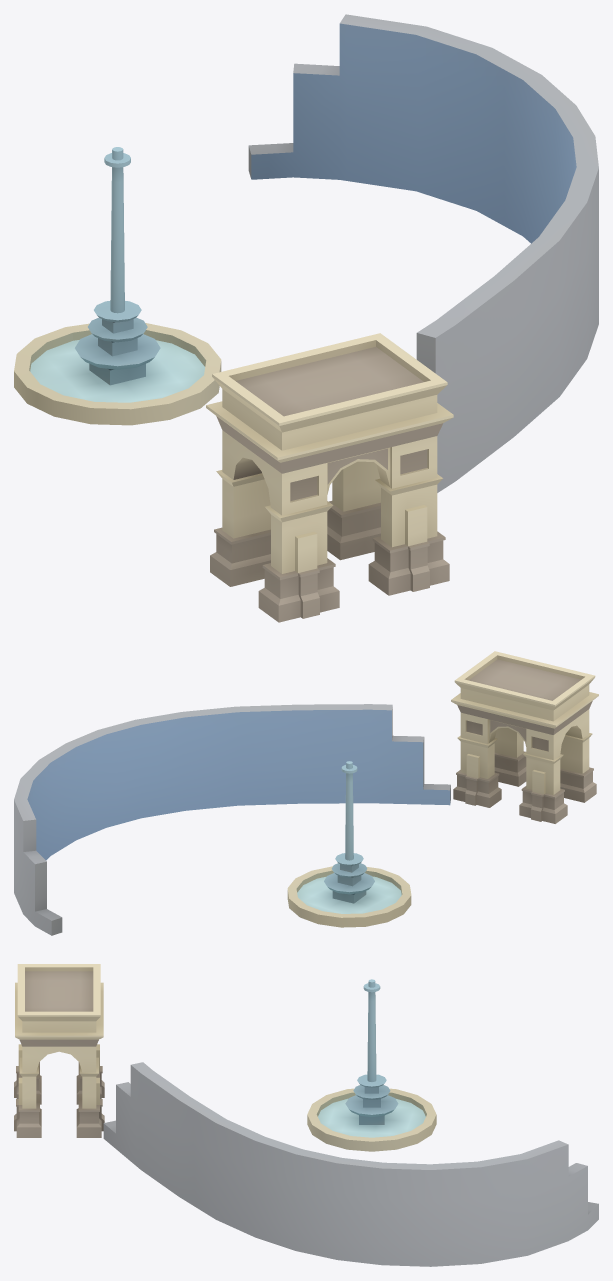
3 views of the same model, one above another, from view 1: azimuth 30°, elevation 25°; view 2: azimuth 150°, elevation 25°; view 3: azimuth 270°, elevation 25° (orthographic). The views are drawn at different scales.
Visible parts, largest first — view 1: 70030076681958268.001; view 2: 70030076681958268.001; view 3: 70030076681958268.001.
Boxes of the visible parts, box(x1,y1,x2,y2) form: 70030076681958268.001: box(14, 14, 598, 622); 70030076681958268.001: box(14, 651, 598, 935); 70030076681958268.001: box(14, 964, 598, 1266).
Size of the model in its own units: 46.44 by 17.16 by 63.34.
Materials: 1 (1 with a texture image).
